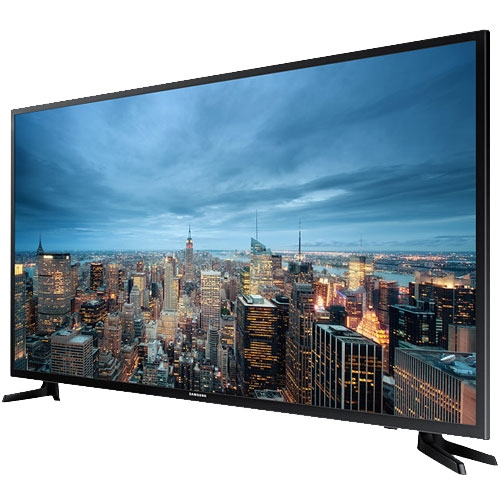SAMSUNG: (106, 334, 275, 453)
